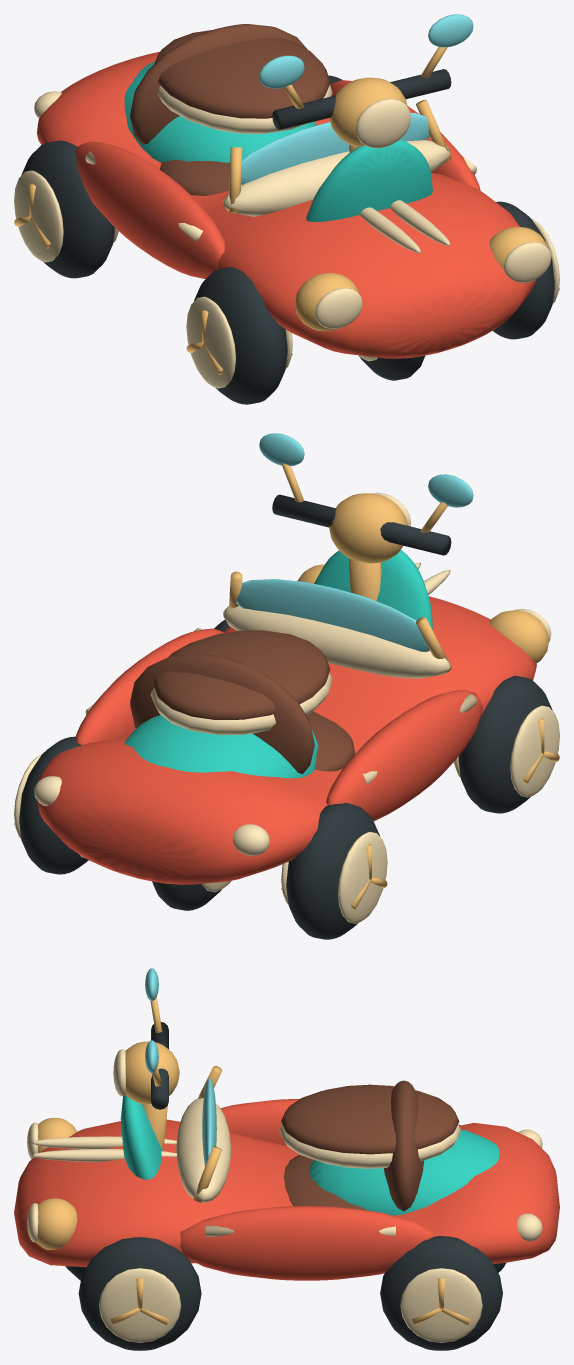
File: board-rides.glb
3 views of the same model, one above another, from view 1: azimuth 30°, elevation 25°; view 2: azimuth 150°, elevation 25°; view 3: azimuth 270°, elevation 25° (orthographic). The views are drawn at different scales.
Visible parts, largest first — view 1: Speedster hull, Swept door, Leather seat, Tire.002, Curved front apron, Tire.003, Pearl side cowl, Seat back, Dashboard cowl, Curved windscreen, Wheel rim.006, Wheel rim.004 (+18 smaller); view 2: Speedster hull, Swept door, Leather seat, Tire.003, Tire.002, Curved windscreen, Seat back, Pearl side cowl, Dashboard cowl, Chrome lamp, Swept door.001, Tire.005 (+13 smaller); view 3: Speedster hull, Swept door.001, Leather seat, Pearl side cowl, Tire.004, Tire.005, Wheel rim.009, Wheel rim.011, Dashboard cowl, Seat back, Curved front apron, Swept door (+13 smaller).
Boxes of the visible parts, bbox=[...] form: Speedster hull: bbox=[37, 52, 536, 358]; Swept door: bbox=[75, 141, 224, 278]; Leather seat: bbox=[154, 30, 330, 118]; Tire.002: bbox=[194, 267, 287, 404]; Curved front apron: bbox=[306, 139, 432, 221]; Tire.003: bbox=[21, 140, 114, 278]; Pearl side cowl: bbox=[124, 61, 316, 162]; Seat back: bbox=[130, 24, 307, 144]; Dashboard cowl: bbox=[223, 140, 450, 216]; Curved windscreen: bbox=[241, 112, 429, 184]; Wheel rim.006: bbox=[14, 170, 63, 262]; Wheel rim.004: bbox=[186, 296, 235, 388]; Speedster hull: bbox=[37, 596, 536, 884]; Swept door: bbox=[326, 690, 482, 820]; Leather seat: bbox=[153, 630, 330, 719]; Tire.003: bbox=[286, 803, 379, 939]; Tire.002: bbox=[458, 675, 552, 813]; Curved windscreen: bbox=[236, 579, 429, 652]; Seat back: bbox=[130, 653, 314, 774]; Pearl side cowl: bbox=[124, 715, 318, 778]; Dashboard cowl: bbox=[223, 606, 450, 678]; Chrome lamp: bbox=[329, 493, 407, 563]; Swept door.001: bbox=[75, 628, 224, 745]; Tire.005: bbox=[19, 736, 88, 874]; Speedster hull: bbox=[14, 1119, 559, 1266]; Swept door.001: bbox=[179, 1206, 435, 1280]; Leather seat: bbox=[281, 1084, 459, 1154]; Pearl side cowl: bbox=[309, 1129, 499, 1215]; Tire.004: bbox=[78, 1237, 201, 1350]; Tire.005: bbox=[380, 1236, 502, 1350]; Wheel rim.009: bbox=[99, 1268, 181, 1342]; Wheel rim.011: bbox=[400, 1268, 482, 1342]; Dashboard cowl: bbox=[176, 1098, 231, 1202]; Seat back: bbox=[384, 1080, 423, 1211]; Curved front apron: bbox=[120, 1095, 162, 1179]; Swept door: bbox=[220, 1099, 299, 1145].
Size of the model in its own units: 1.74 by 1.59 by 2.75.
